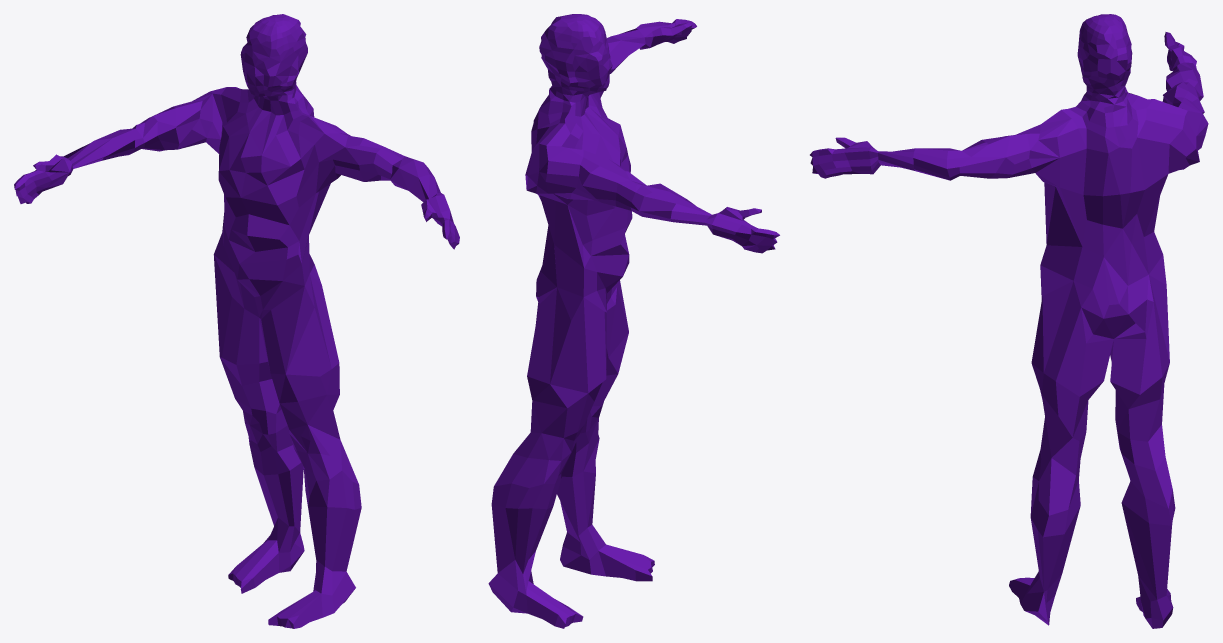
The model's file is TheMan.fbx.
3 views of the same model, side by side, from view 1: azimuth 30°, elevation 25°; view 2: azimuth 150°, elevation 25°; view 3: azimuth 270°, elevation 25° (orthographic). The views are drawn at different scales.
Visible parts, largest first — view 1: TheMan; view 2: TheMan; view 3: TheMan.
Part boxes in pixels (x1=…): TheMan: x1=14, y1=14, x2=459, y2=628; TheMan: x1=488, y1=14, x2=779, y2=628; TheMan: x1=810, y1=14, x2=1208, y2=628.
Size of the model in its own units: 1506 by 2737 by 1659.
